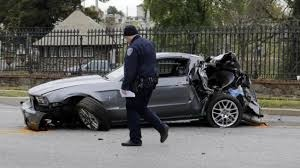Smashed: (191, 53, 262, 127)
